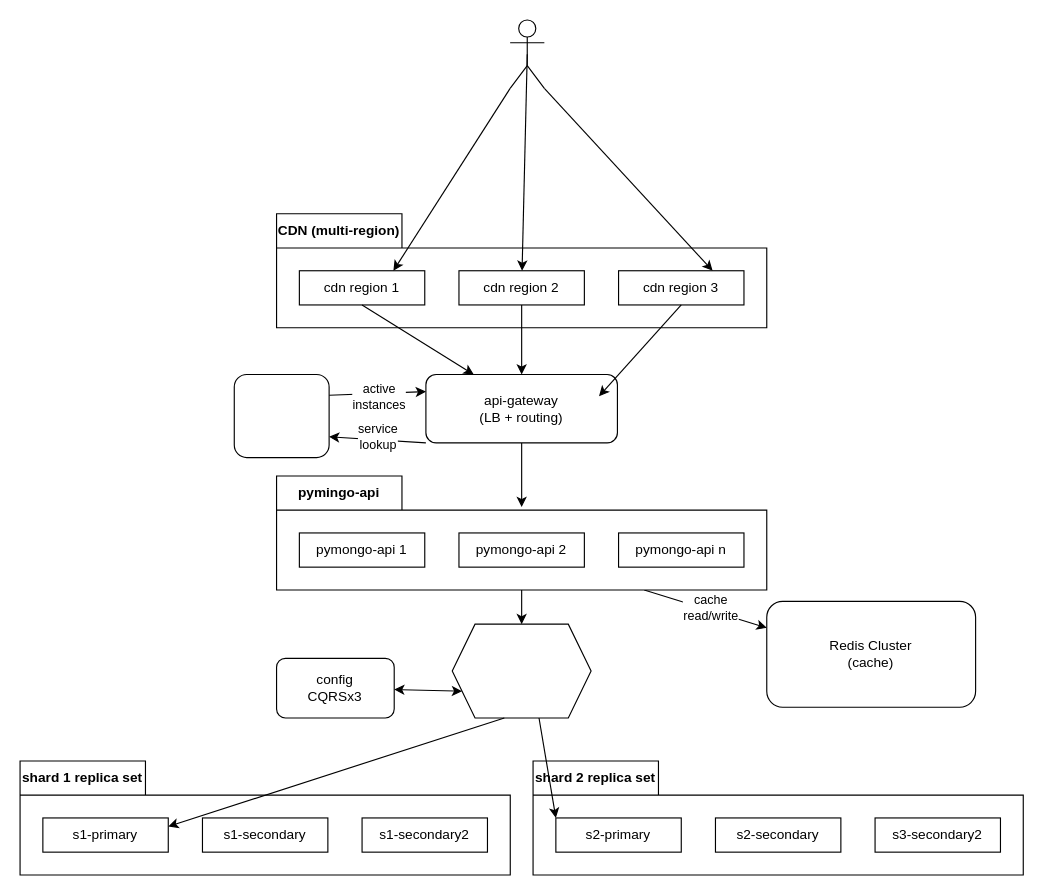
This 1043x895 diagram has some shape labels left out. The centre of each missing label's shape, as x and y in pixels:
"client" belongs at (x=526, y=53).
"router" belongs at (x=521, y=670).
"service discovery (consul)" belongs at (x=281, y=415).
